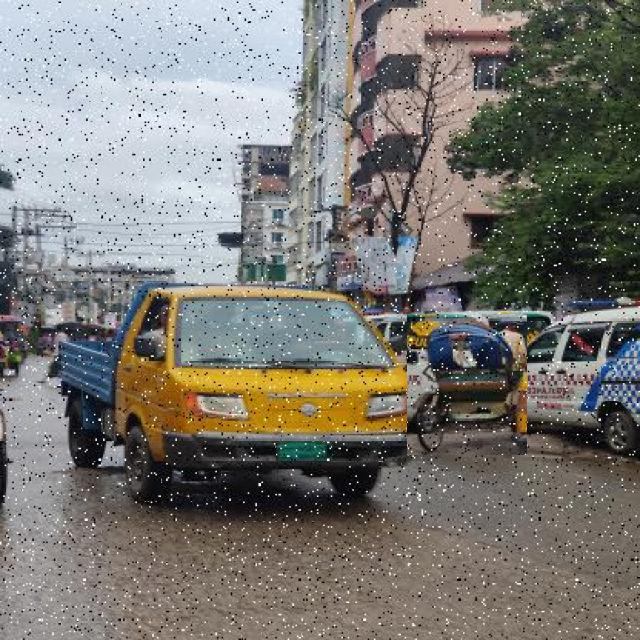Rickshaw: (407, 314, 527, 455)
numberplate: (276, 437, 332, 461)
